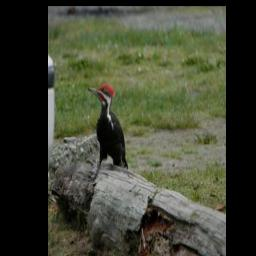Woodpecker: (87, 78, 129, 174)
